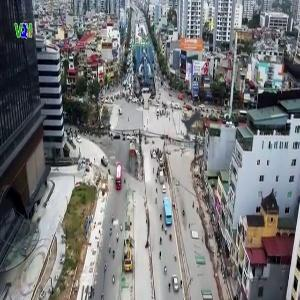drone: (159, 84, 233, 158)
